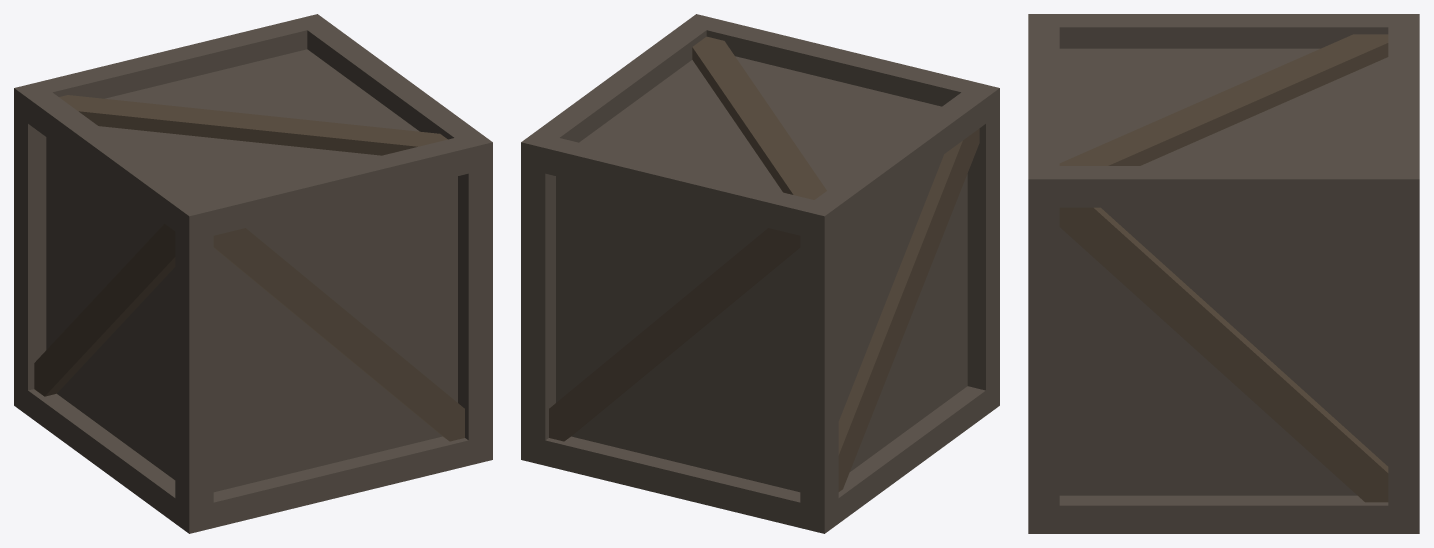
The model's file is woodcrate.fbx.
The picture shows the model from 3 angles, left to right: view 1: azimuth 30°, elevation 25°; view 2: azimuth 150°, elevation 25°; view 3: azimuth 270°, elevation 25°; orthographic projection. The views are drawn at different scales.
Parts seen in each view (by area): view 1: wood1; view 2: wood1; view 3: wood1.
Part boxes in pixels (bbox=[...]): wood1: bbox=[14, 14, 492, 533]; wood1: bbox=[521, 14, 999, 533]; wood1: bbox=[1028, 14, 1419, 533].
Bounding box in the file's own units: 50 × 50 × 50.
